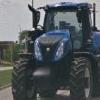Tractor: (13, 2, 100, 100)
